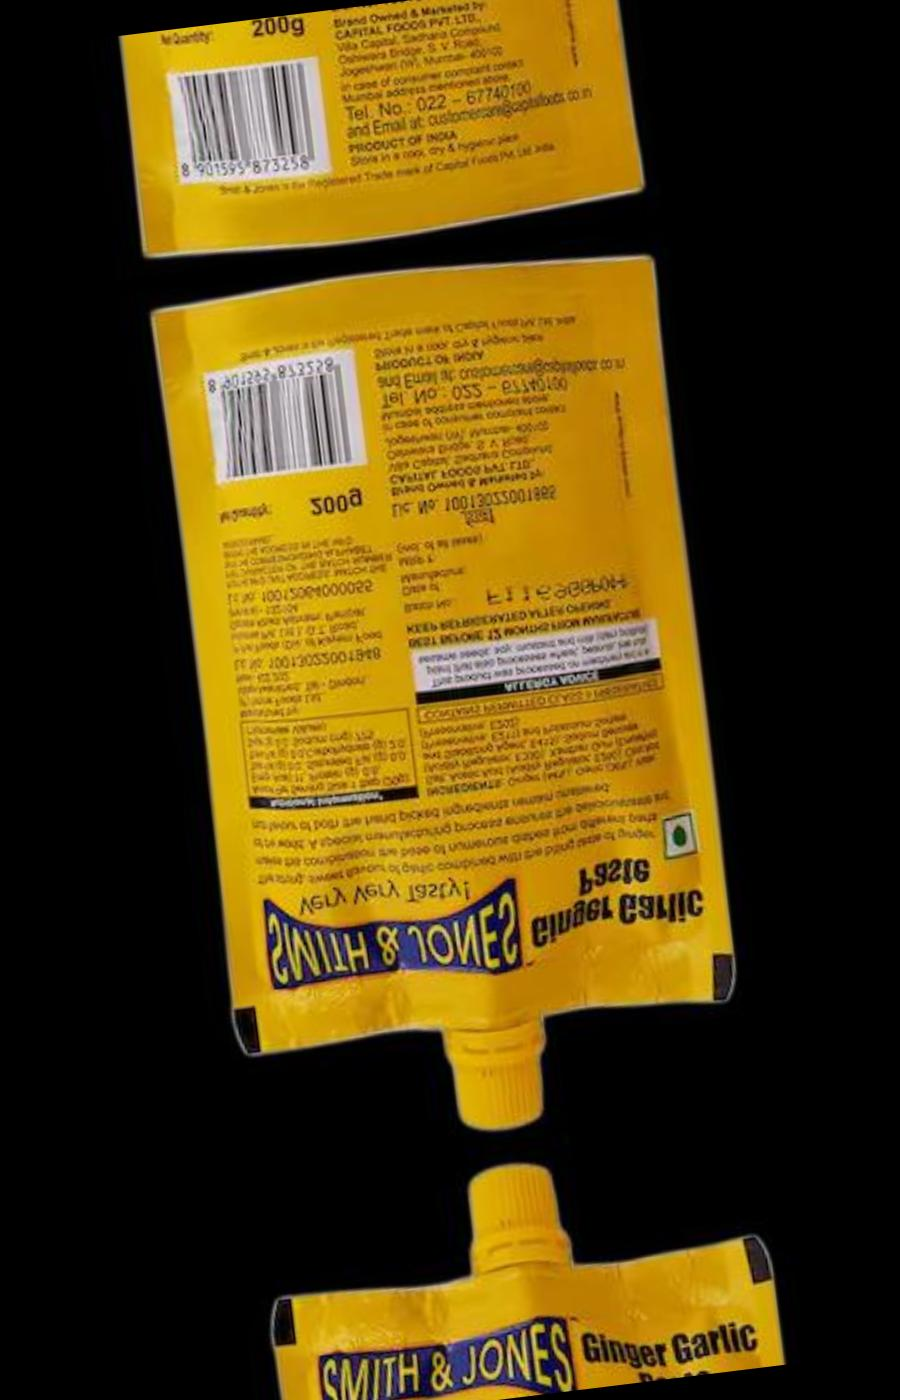Smith - Jones Ginger Garlic Paste 200 g: (151, 256, 754, 1166), (257, 1127, 785, 1400), (115, 0, 641, 251)
